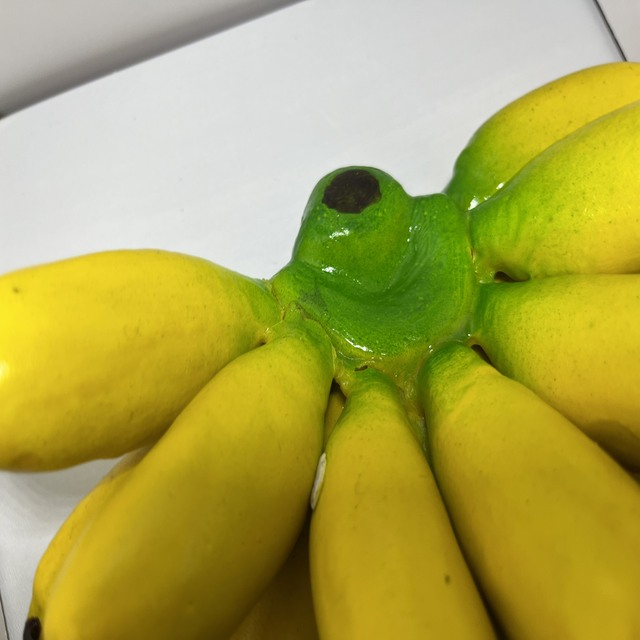Chuoi: (0, 55, 640, 640)
